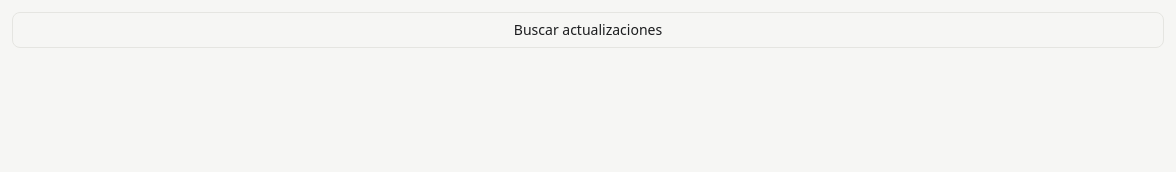
it: <UpdateButton/> › hay versión nueva → Actualizar la instala con la URL del instalador
Click the button "Buscar actualizaciones": (588, 30) [12,12,1164,48]
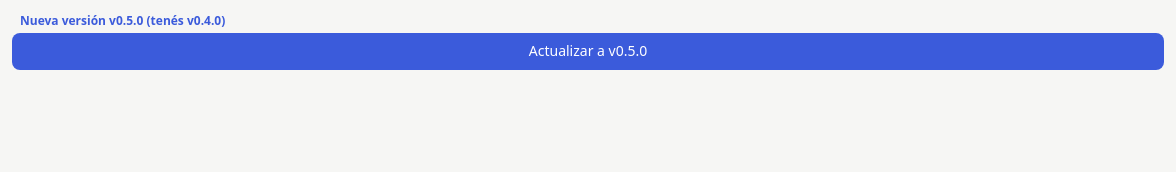
Click the button "Actualizar a v0.5.0": (588, 52) [12,33,1164,70]
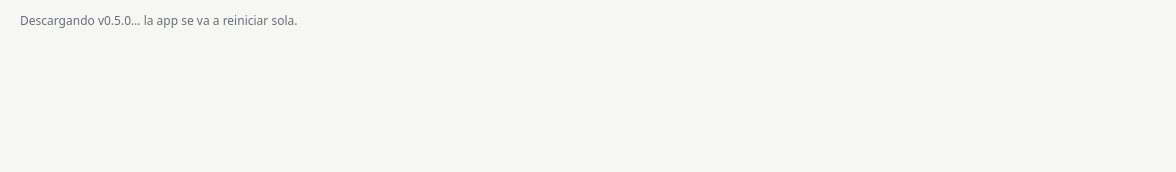
Now the text "Descargando v0.5.0… la app se va a reiniciar sola." is shown, box [20,12,298,29]
